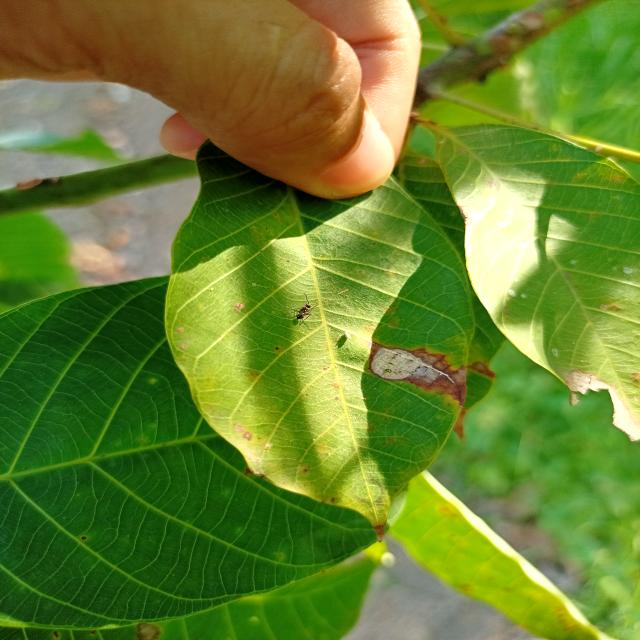Colletotrichum: (81, 537, 87, 540)
Leaf-Blight: (565, 369, 640, 441), (372, 348, 440, 383)
